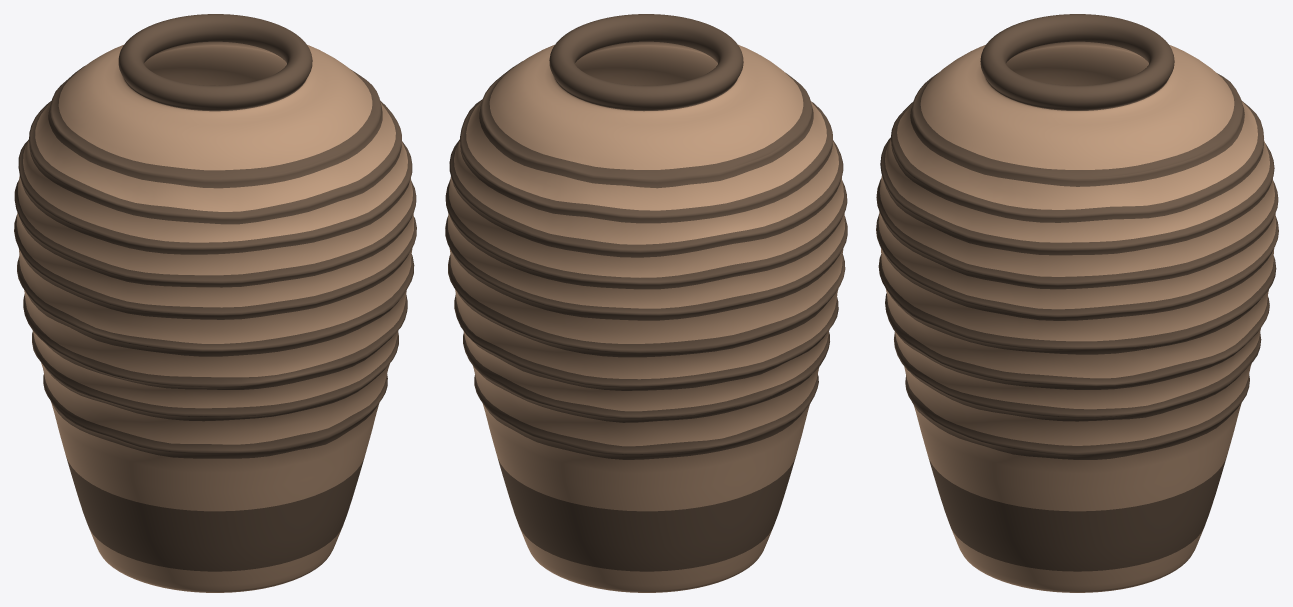
File: Vase3.fbx
The picture shows the model from 3 angles, left to right: view 1: azimuth 30°, elevation 25°; view 2: azimuth 150°, elevation 25°; view 3: azimuth 270°, elevation 25°; orthographic projection.
Parts seen in each view (by area): view 1: 3; view 2: 3; view 3: 3.
Part boxes in pixels (left/top/right/bottom): 3: left=14, top=14, right=416, bottom=592; 3: left=445, top=14, right=847, bottom=592; 3: left=876, top=14, right=1278, bottom=592.
Size of the model in its own units: 0.3166 by 0.428 by 0.3166.
